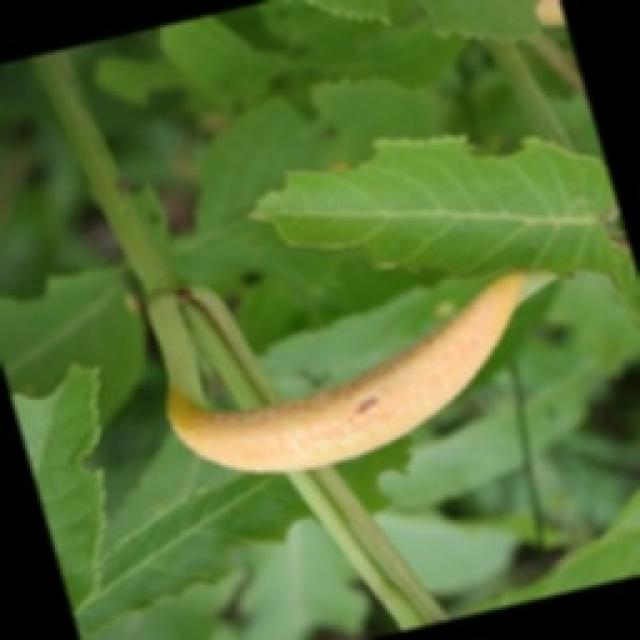Elderberry_rust: (162, 267, 528, 475)
